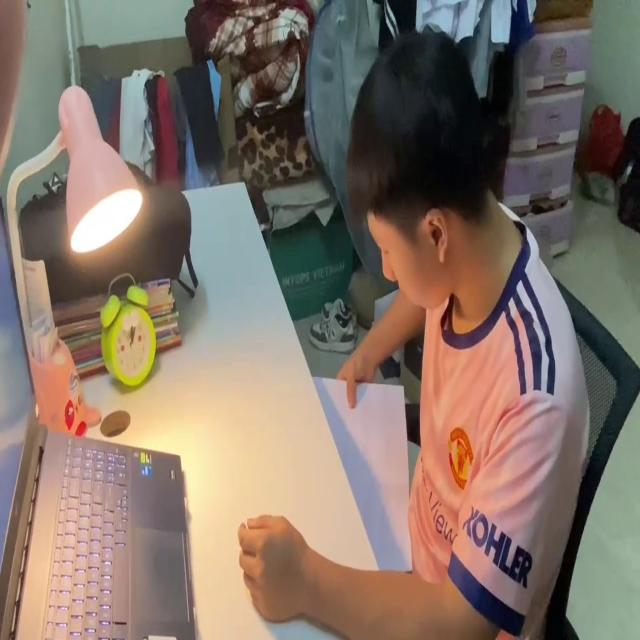book: (313, 361, 413, 582)
laptop: (0, 186, 193, 640)
student: (237, 24, 589, 640)
